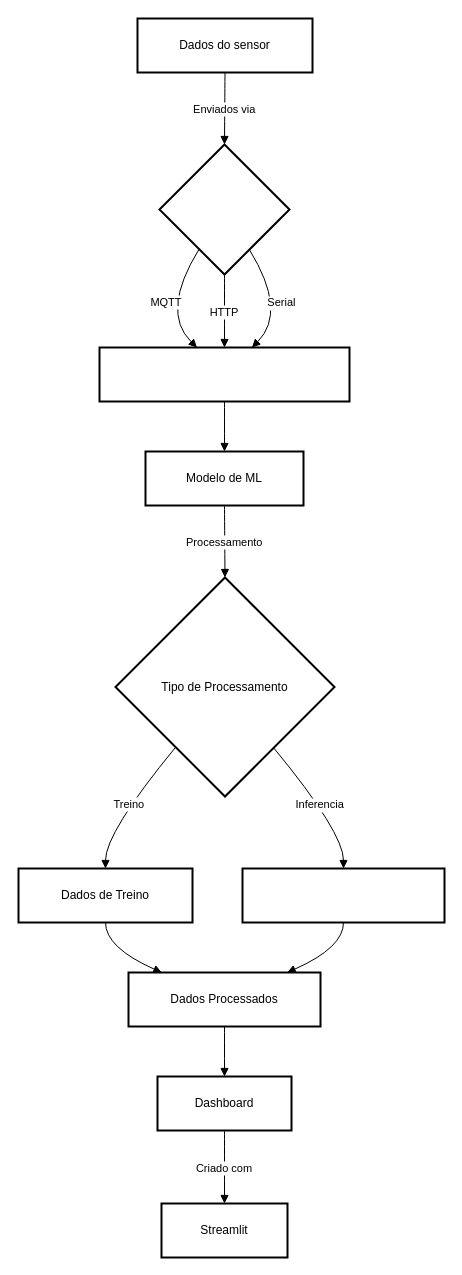
Image size: 462x1275. Some labels were removed from this diagram. The shapes that lost their labels are listed below. From the top down, each one's box as (x1, y1, x2, y2) in pixels, then its label:
(158, 143, 290, 275): Transporte
(98, 346, 350, 402): Banco de Dados Relacional
(241, 867, 445, 923): Dados de Inferencia
